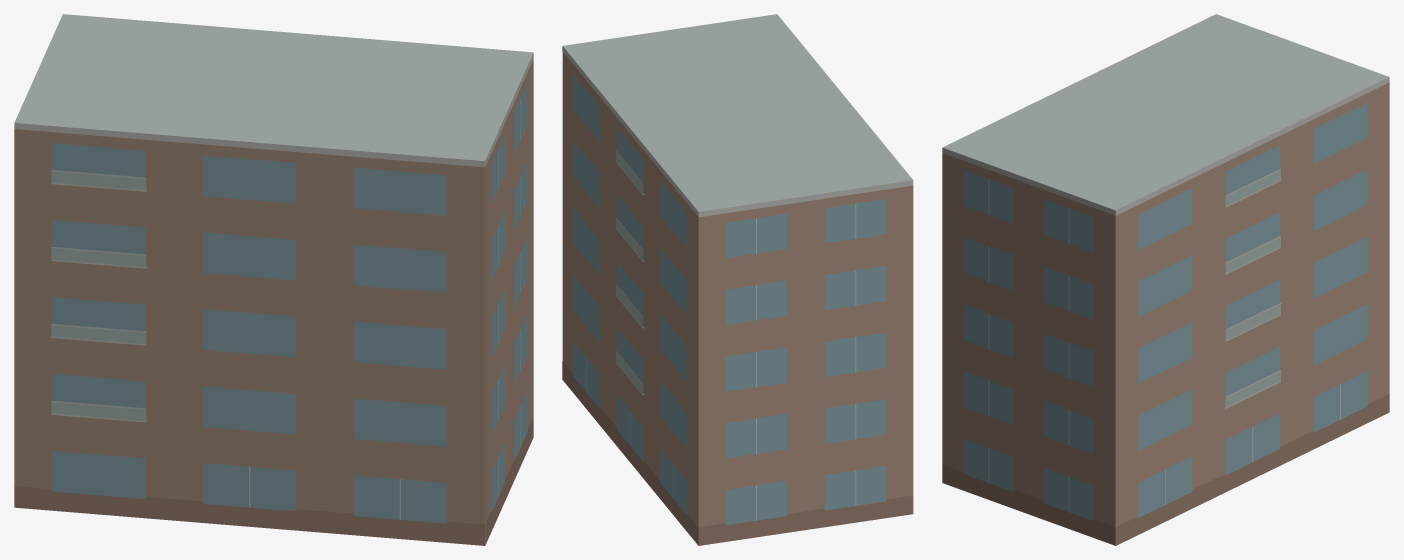
The model's file is survey-upis-32846779.glb.
3 renders of one model, left to right at view 1: azimuth 30°, elevation 25°; view 2: azimuth 150°, elevation 25°; view 3: azimuth 270°, elevation 25°, orthographic. The views are drawn at different scales.
Parts seen in each view (by area): view 1: survey-upis-32846779.tmp; view 2: survey-upis-32846779.tmp; view 3: survey-upis-32846779.tmp.
Part boxes in pixels (left/top/right/bottom): survey-upis-32846779.tmp: left=14, top=14, right=533, bottom=545; survey-upis-32846779.tmp: left=562, top=14, right=913, bottom=545; survey-upis-32846779.tmp: left=942, top=14, right=1389, bottom=545.
Bounding box in the file's own units: 19.17 × 15.25 × 18.44.
